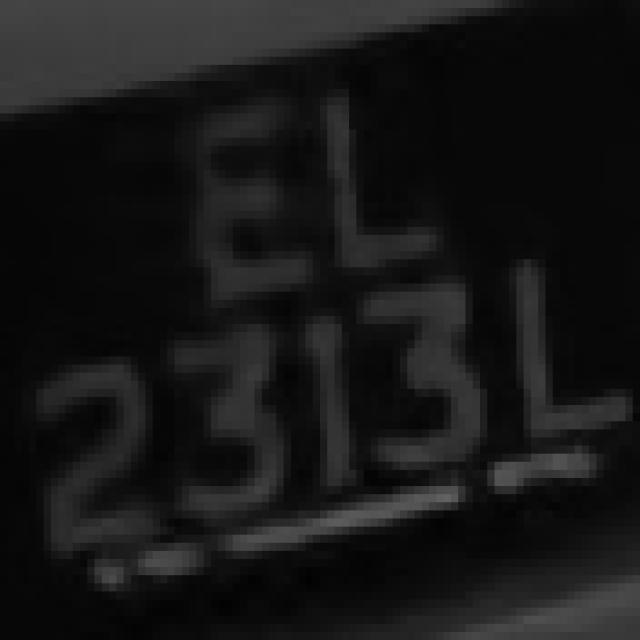1: (262, 284, 393, 518)
2: (29, 316, 146, 575)
3: (349, 251, 480, 527), (160, 308, 291, 543)
E: (160, 89, 313, 332)
L: (291, 65, 473, 292), (494, 211, 632, 454)
